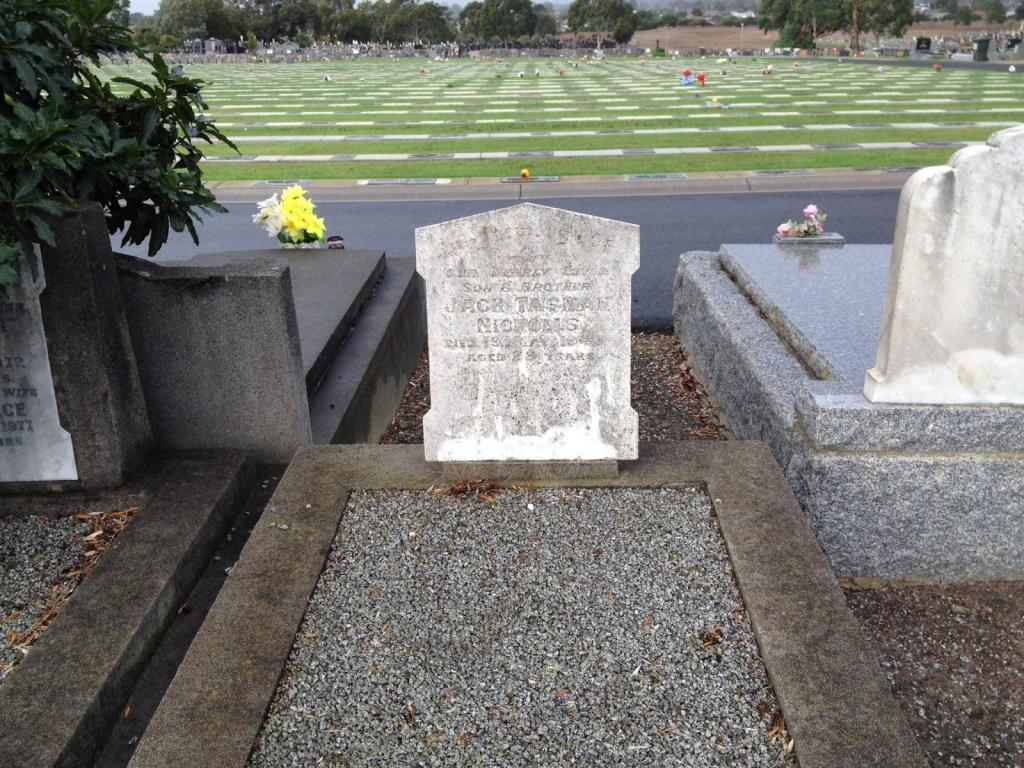upright: (409, 200, 655, 483)
